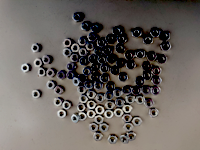nut: (161, 42, 172, 52), (160, 31, 171, 41), (143, 35, 154, 45), (132, 28, 143, 38), (149, 108, 160, 118), (122, 114, 133, 124), (116, 35, 127, 45), (113, 26, 123, 36), (91, 23, 101, 33), (81, 22, 91, 32), (147, 52, 157, 62), (152, 77, 162, 87), (152, 66, 162, 76), (136, 77, 146, 87), (133, 117, 143, 127), (124, 123, 134, 133), (104, 110, 114, 120), (108, 135, 118, 145), (118, 73, 128, 83), (122, 86, 132, 96), (152, 86, 162, 96), (136, 95, 146, 105), (125, 51, 135, 61), (57, 71, 67, 81), (21, 63, 31, 73), (120, 135, 130, 145), (106, 34, 116, 44), (157, 55, 168, 64), (93, 133, 104, 142), (94, 116, 105, 125), (104, 92, 115, 101), (105, 83, 116, 92), (144, 99, 155, 108), (115, 44, 126, 53), (151, 29, 161, 38), (73, 13, 83, 22), (55, 86, 64, 96), (114, 109, 124, 118), (123, 105, 133, 114), (87, 101, 97, 110), (94, 82, 104, 91), (110, 67, 120, 76), (126, 61, 136, 70), (136, 50, 146, 59), (88, 33, 98, 42), (103, 47, 113, 56), (79, 57, 89, 66), (83, 67, 93, 76), (67, 63, 77, 72), (86, 42, 96, 51), (100, 64, 110, 73), (100, 74, 110, 83), (91, 73, 101, 82), (87, 90, 97, 99), (77, 103, 86, 113), (71, 114, 80, 124), (63, 101, 72, 111), (127, 133, 137, 142), (63, 48, 72, 58), (142, 62, 152, 71), (79, 95, 89, 104), (142, 86, 151, 96), (89, 54, 98, 64), (115, 98, 125, 107), (89, 124, 99, 133), (103, 46, 112, 56), (96, 94, 106, 103), (113, 89, 123, 98), (94, 47, 103, 57), (57, 110, 66, 119), (78, 113, 87, 122), (54, 98, 63, 107), (32, 90, 41, 99), (47, 81, 56, 90), (42, 56, 51, 65), (63, 39, 72, 48), (78, 86, 87, 95), (79, 37, 88, 46), (96, 106, 105, 115), (79, 48, 88, 57), (71, 44, 80, 53), (107, 55, 116, 64), (73, 77, 82, 86), (98, 55, 107, 64), (126, 96, 135, 105), (106, 101, 115, 110), (31, 44, 41, 52), (98, 38, 106, 48), (67, 71, 75, 80), (100, 124, 109, 132), (47, 69, 55, 78), (38, 68, 46, 77), (117, 59, 125, 68), (91, 64, 100, 72), (133, 86, 141, 95), (85, 81, 94, 89), (87, 110, 96, 118), (34, 59, 42, 67), (71, 54, 79, 62), (144, 73, 151, 80)
